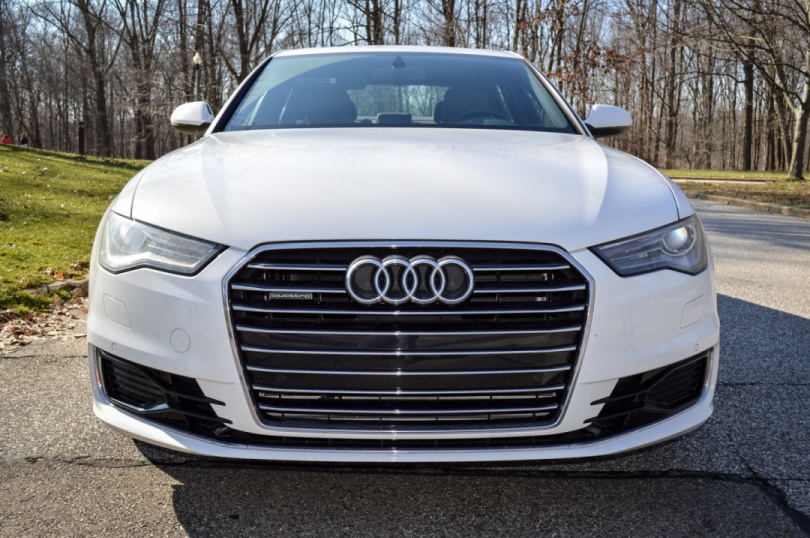audi: (330, 254, 489, 318)
